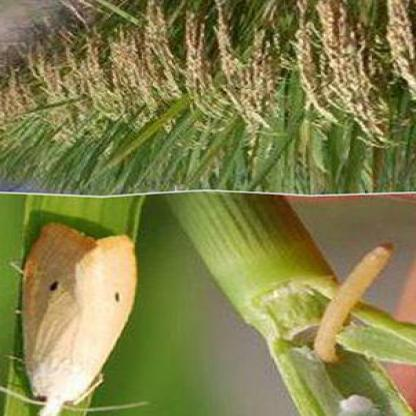stem-borer: (0, 219, 142, 416)
